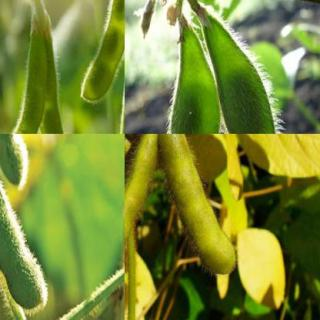soya: (160, 134, 235, 273), (202, 23, 292, 133), (0, 151, 48, 310), (166, 32, 219, 133), (0, 32, 48, 133), (80, 0, 124, 105), (125, 133, 160, 264), (40, 36, 78, 133), (0, 134, 30, 188)
